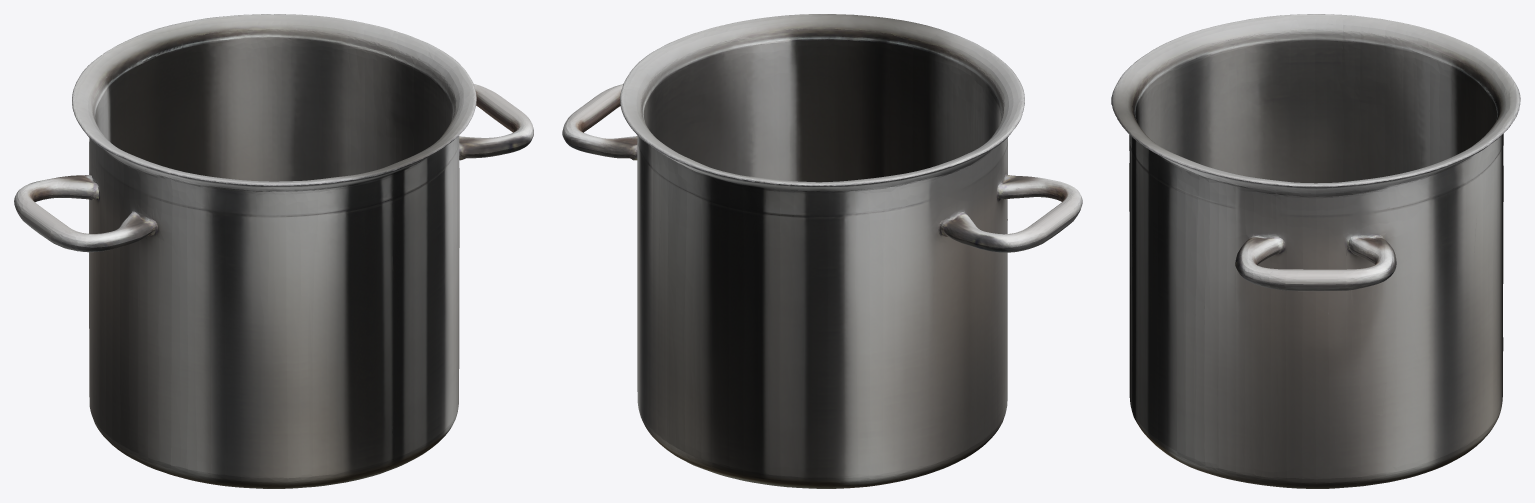
Rendered from stock.glb.
The picture shows the model from 3 angles, left to right: view 1: azimuth 30°, elevation 25°; view 2: azimuth 150°, elevation 25°; view 3: azimuth 270°, elevation 25°; orthographic projection.
Visible parts, largest first — view 1: world; view 2: world; view 3: world.
Part boxes in pixels (x1,y1,x2,y2): world: (14,14,533,488); world: (562,14,1082,488); world: (1111,14,1520,488).
Size of the model in its own units: 0.9928 by 0.6286 by 0.7365.
Materials: 1 (1 with a texture image).
